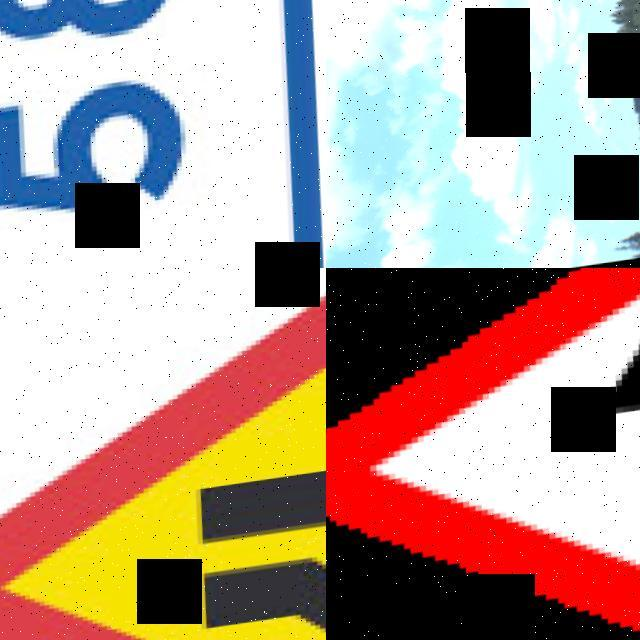131: (0, 268, 326, 640)
81: (0, 0, 326, 268)
Right curve: (326, 268, 640, 640)
